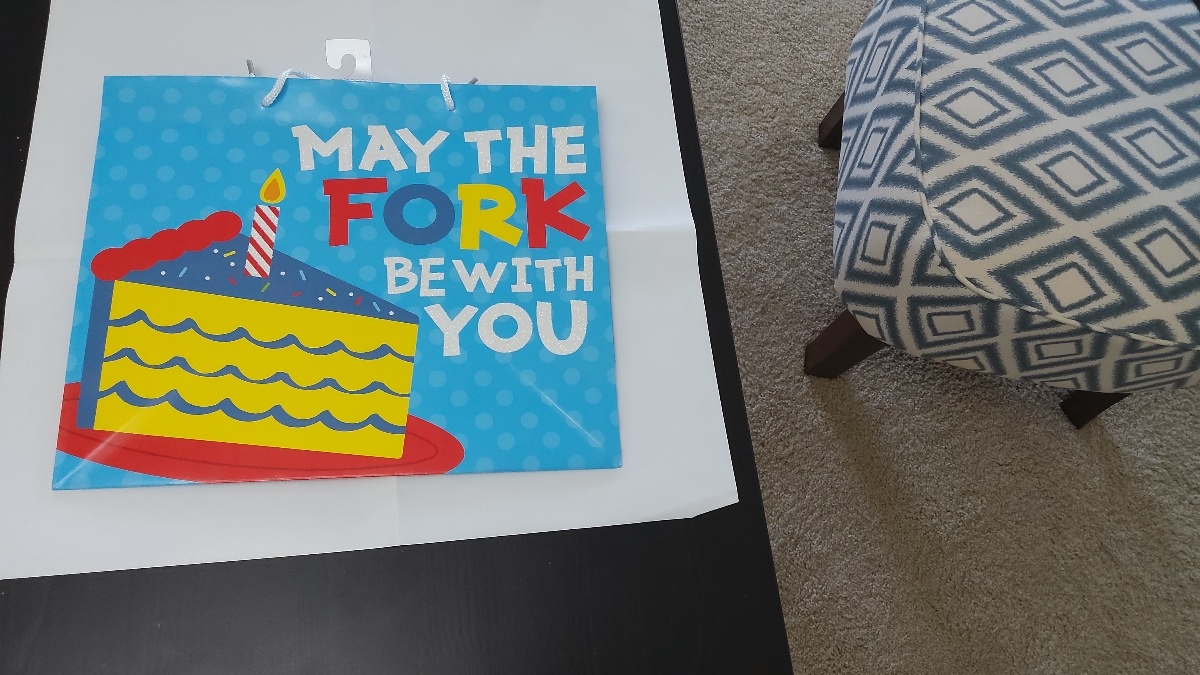paper_bag: (105, 82, 592, 468)
